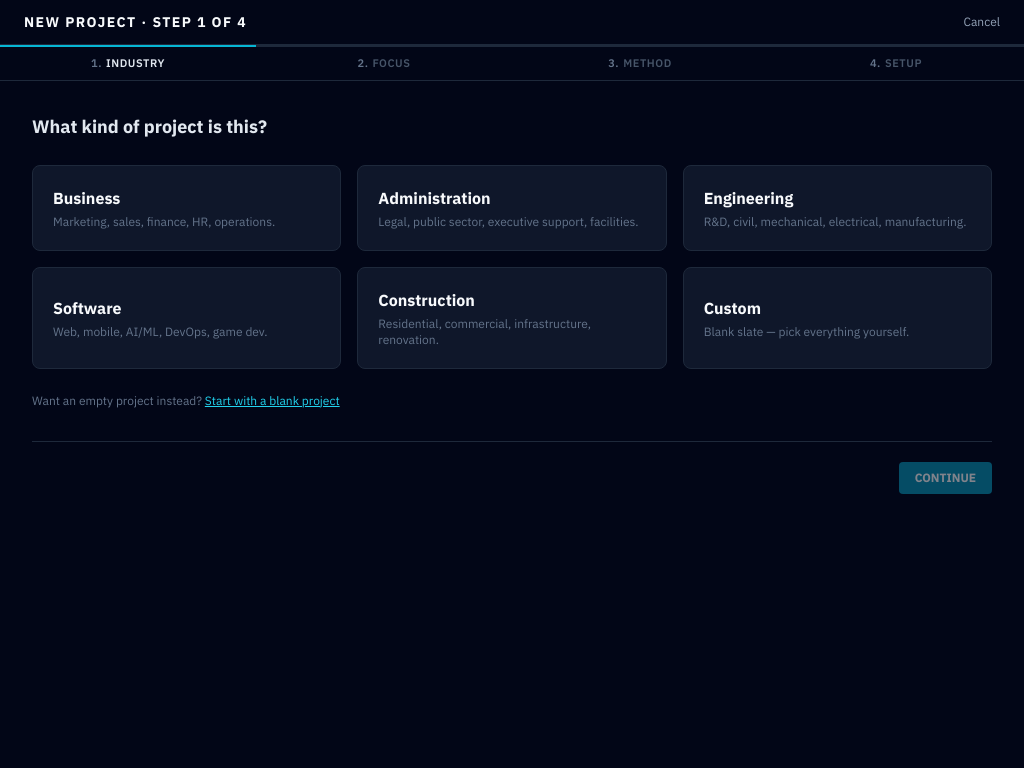
Test: ProjectLaunchpad blank project › asks for a way back in before creating when there are no recovery codes
Click the button "Start with a blank project".
click(272, 400)  # box [205,392,340,408]
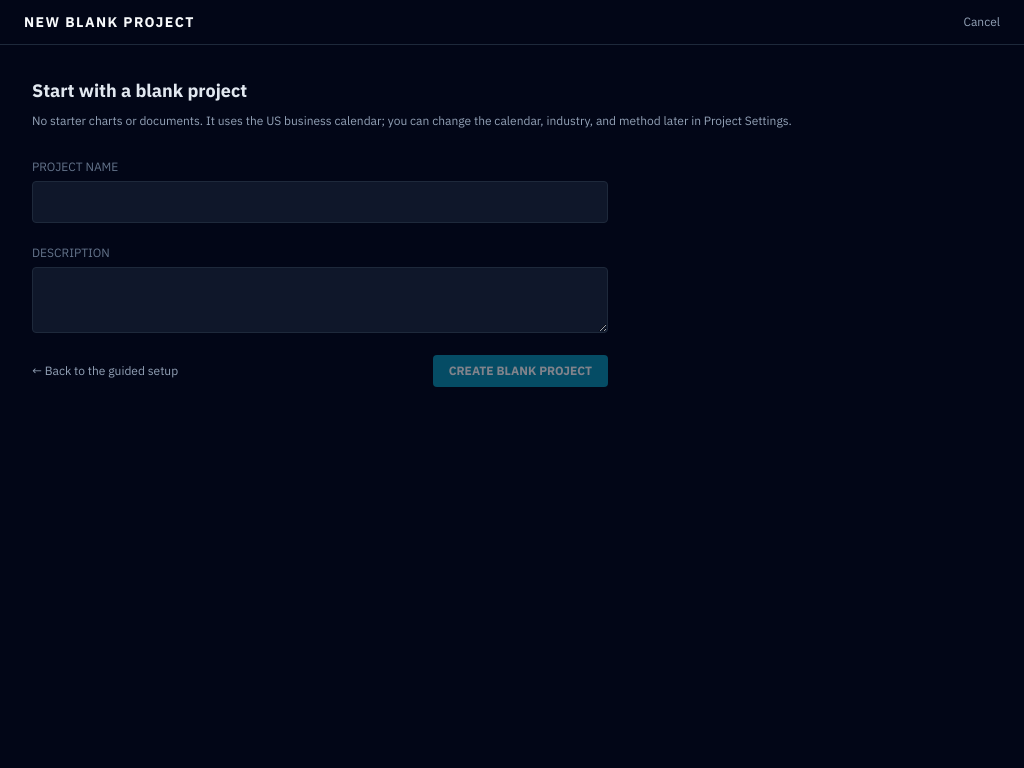
Type "Blank" into the field labelled "Project name".
click(320, 202); type("Blank")  # box [32,181,608,223]
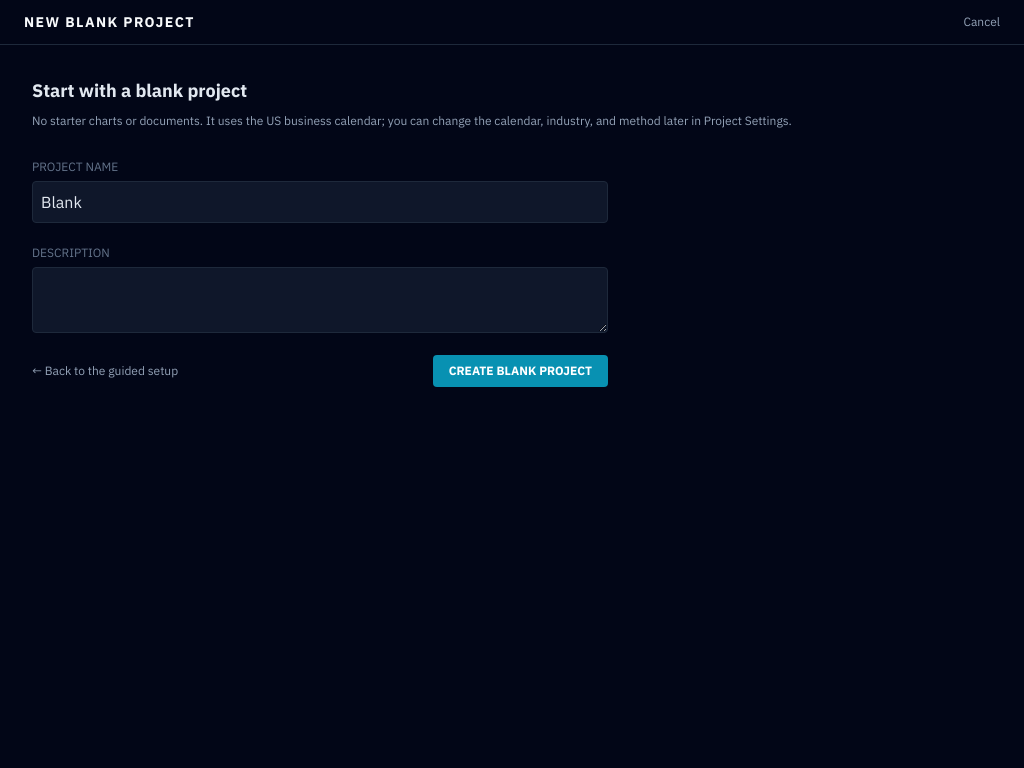
Click the button "Create blank project".
click(520, 371)  # box [433,355,608,387]
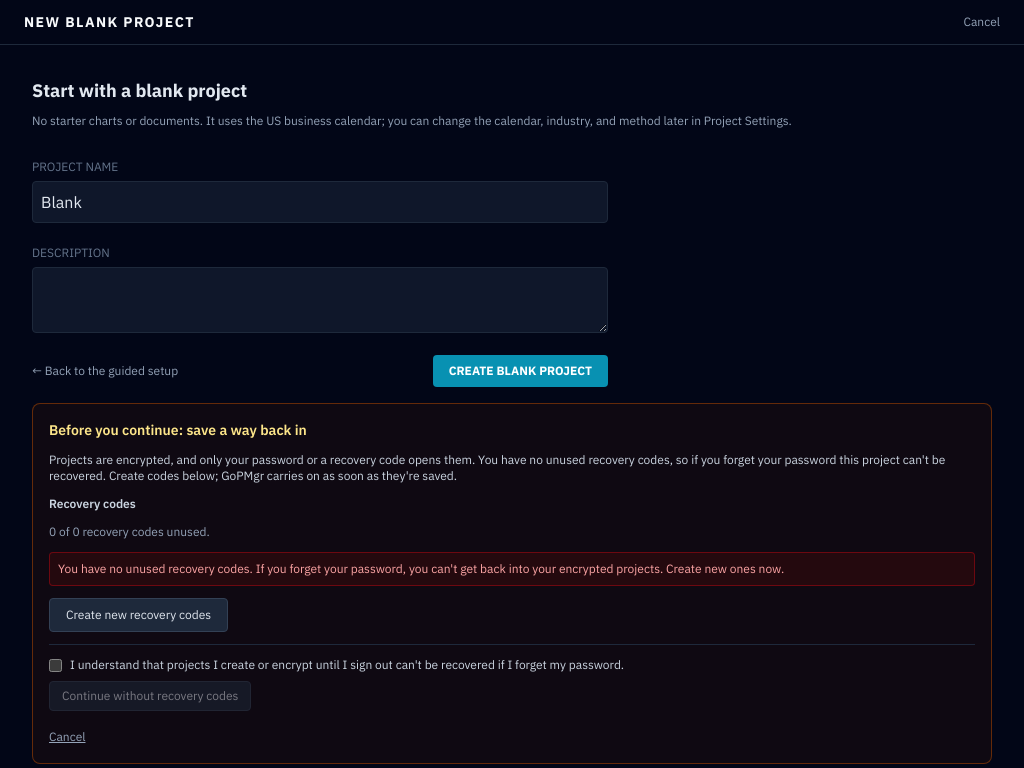
Check: the heading "Before you continue: save a way back in" is shown, box [49,421,307,439]
